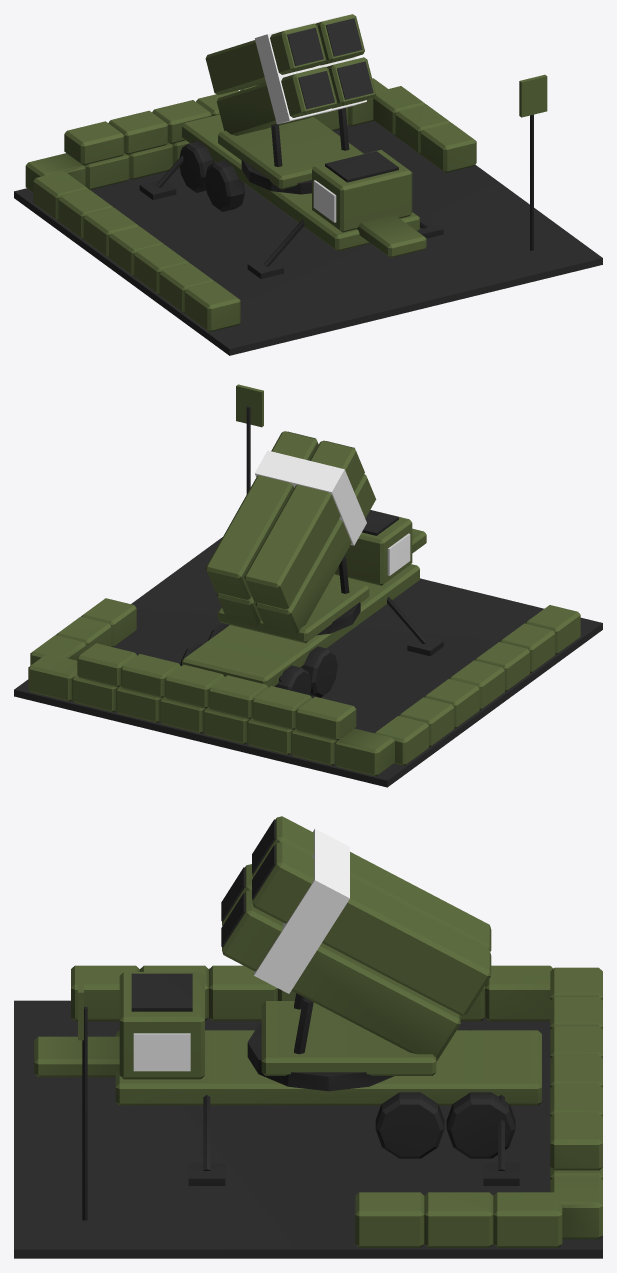
File: ua-patriot.glb
The picture shows the model from 3 angles, top to bottom: view 1: azimuth 30°, elevation 25°; view 2: azimuth 150°, elevation 25°; view 3: azimuth 270°, elevation 25°; orthographic projection. The views are drawn at different scales.
Parts seen in each view (by area): view 1: ua-patriot, turret; view 2: ua-patriot, turret; view 3: ua-patriot, turret.
Boxes of the visible parts, x1,y1,x2,y2 form: ua-patriot: (14,74,602,355); turret: (205,14,375,194); ua-patriot: (14,384,602,787); turret: (205,431,376,643); ua-patriot: (14,965,602,1258); turret: (221,816,491,1091).
Bounding box in the file's own units: 2.9 × 1.6 × 2.9.
